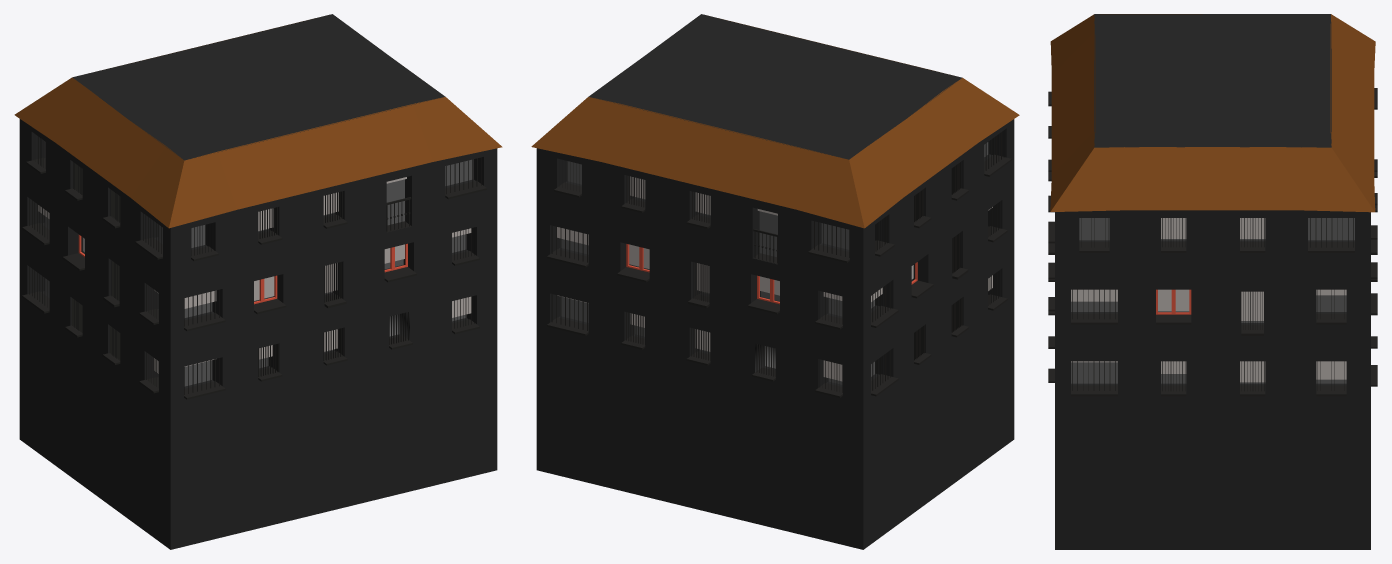
The model's file is casa_procedural_relleno_Con sotano_7.fbx.
3 renders of one model, left to right at view 1: azimuth 30°, elevation 25°; view 2: azimuth 150°, elevation 25°; view 3: azimuth 270°, elevation 25°, orthographic. The views are drawn at different scales.
Parts seen in each view (by area): view 1: casa procedural_relleno_Con sotano_7; view 2: casa procedural_relleno_Con sotano_7; view 3: casa procedural_relleno_Con sotano_7.
Boxes of the visible parts, x1,y1,x2,y2 form: casa procedural_relleno_Con sotano_7: (14,14,502,549); casa procedural_relleno_Con sotano_7: (531,14,1019,549); casa procedural_relleno_Con sotano_7: (1048,14,1377,549).
Size of the model in its own units: 516 by 538 by 416.
